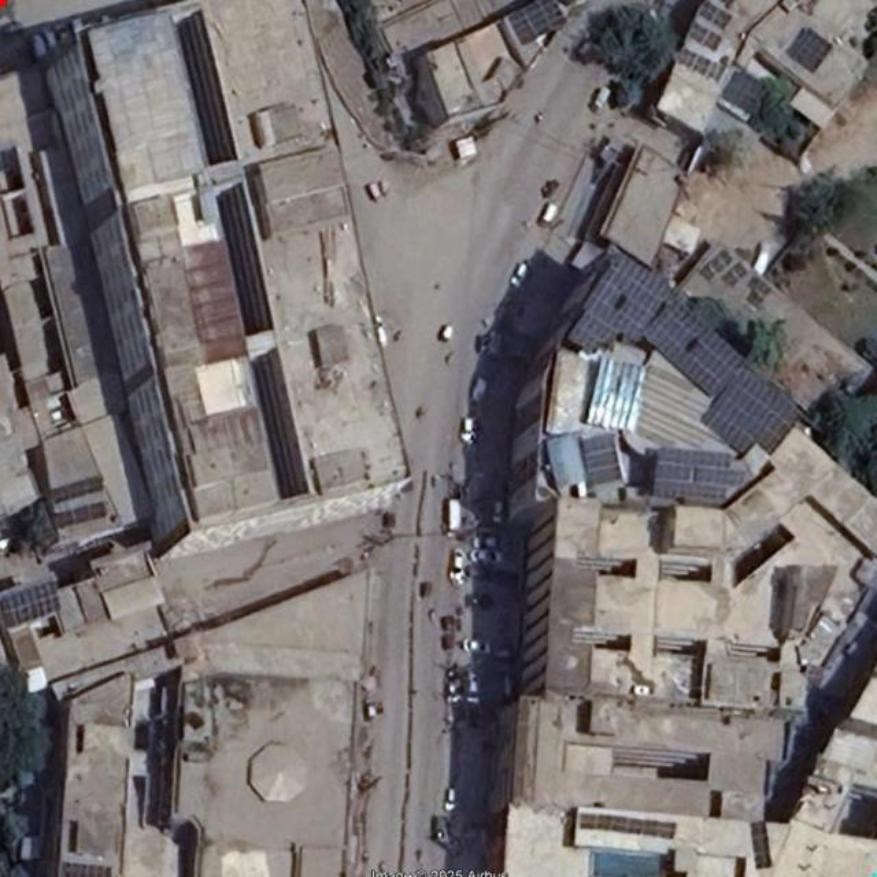Solarpanel: (568, 256, 673, 375), (645, 301, 748, 396), (705, 367, 804, 465), (653, 451, 746, 503), (509, 0, 569, 50), (576, 434, 625, 490), (2, 581, 58, 626), (786, 23, 835, 73), (578, 814, 677, 837), (721, 69, 770, 112), (677, 49, 727, 85), (52, 503, 107, 531), (51, 475, 102, 503), (690, 23, 725, 53), (751, 822, 774, 867), (699, 1, 731, 30), (62, 861, 112, 876)
